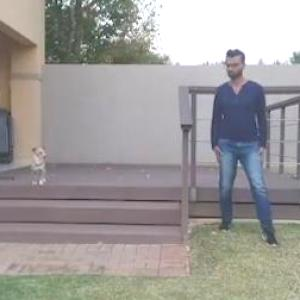follow: (211, 40, 270, 256)
